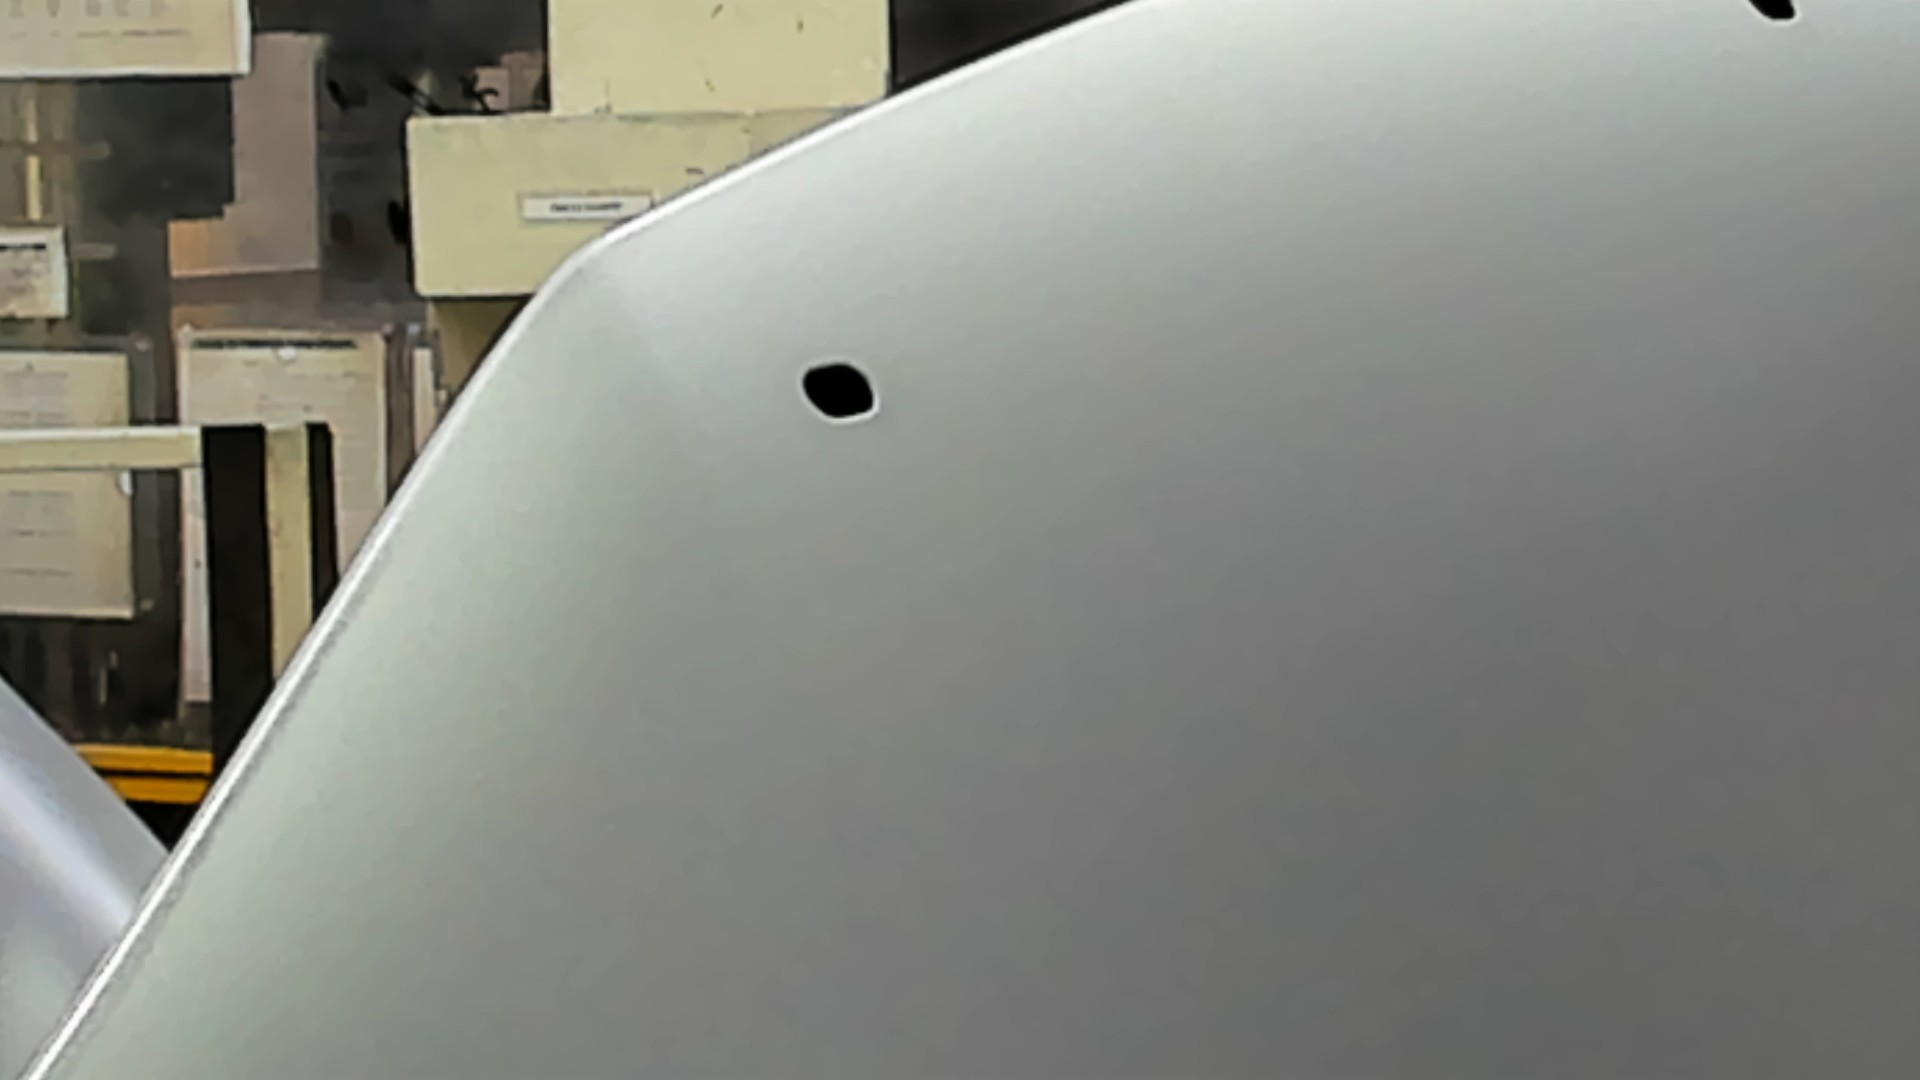amorfo: (793, 355, 886, 427), (1742, 1, 1801, 24)
